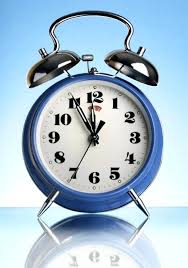alarm_clock: (21, 6, 163, 219), (31, 6, 163, 219)
